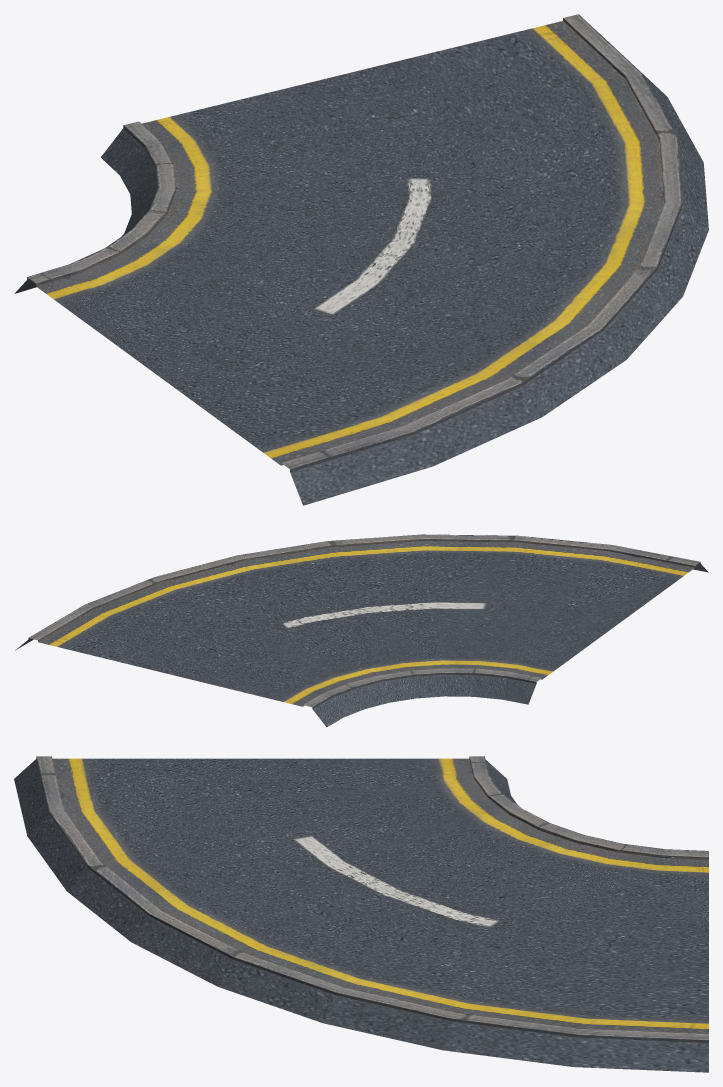
Rendered from road_curve.obj.
3 renders of one model, top to bottom at view 1: azimuth 30°, elevation 25°; view 2: azimuth 150°, elevation 25°; view 3: azimuth 270°, elevation 25°, orthographic. The views are drawn at different scales.
Parts seen in each view (by area): view 1: ROAD_CURVE_STR_Cube.001; view 2: ROAD_CURVE_STR_Cube.001; view 3: ROAD_CURVE_STR_Cube.001.
Part boxes in pixels (bbox=[...]): ROAD_CURVE_STR_Cube.001: bbox=[14, 14, 708, 505]; ROAD_CURVE_STR_Cube.001: bbox=[15, 534, 708, 727]; ROAD_CURVE_STR_Cube.001: bbox=[14, 756, 708, 1072].
Size of the model in its own units: 12.4 by 0.4482 by 12.4.
Materials: 1 (1 with a texture image).
